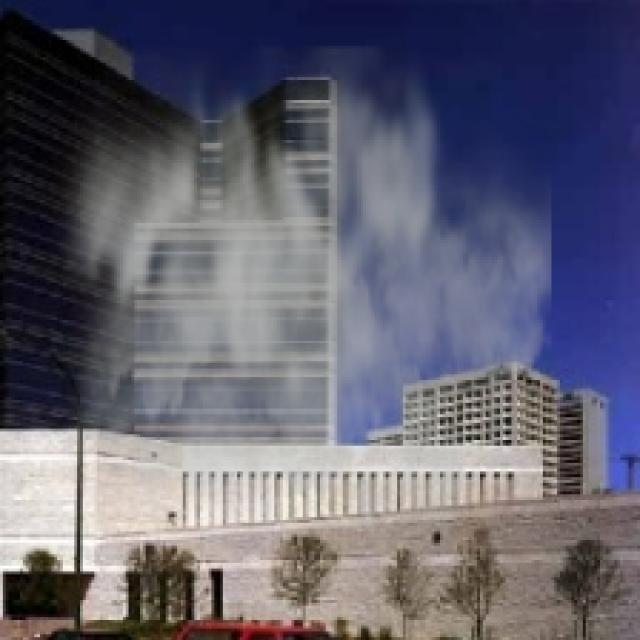smoke: (31, 46, 552, 591)
